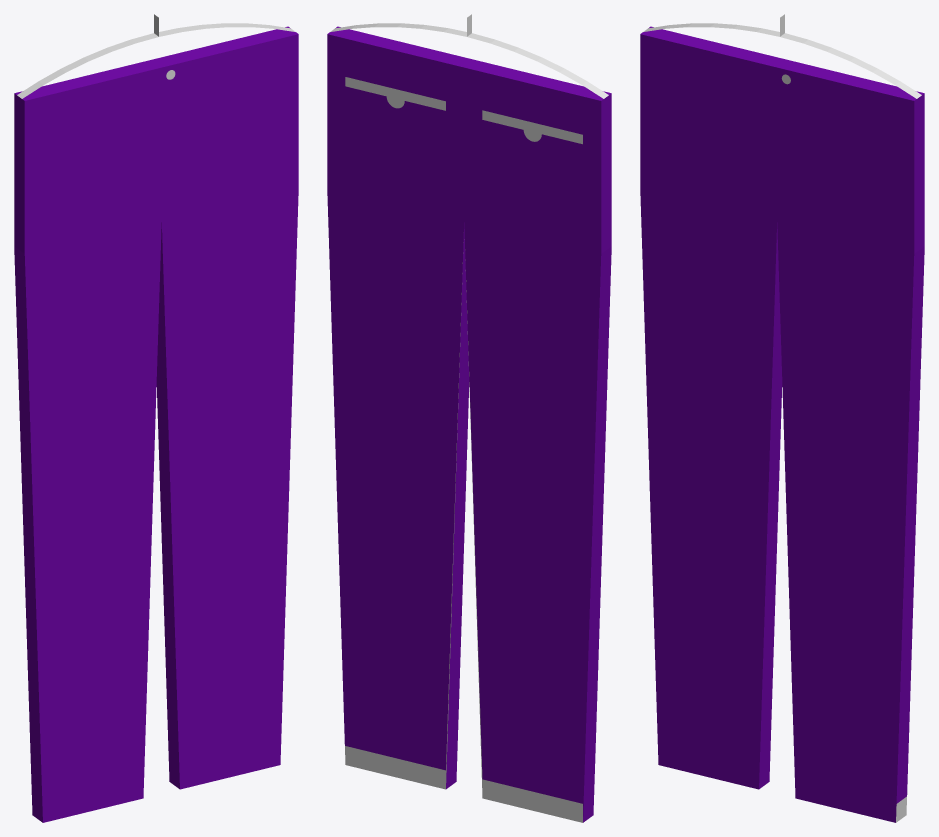
The model's file is pants-purple.dae.
3 renders of one model, left to right at view 1: azimuth 30°, elevation 25°; view 2: azimuth 150°, elevation 25°; view 3: azimuth 330°, elevation 25°, orthographic.
Visible parts, largest first — view 1: group_0_002, group_0_016, group_0_005, group_0_001; view 2: group_0_006, group_0_005, group_0_002, group_0_016, group_0_019, group_0_015, group_0_001; view 3: group_0_002, group_0_016, group_0_005, group_0_006, group_0_013, group_0_001.
Part boxes in pixels (box(x1,y1,x2,y2)): group_0_002: box(14, 87, 161, 822); group_0_016: box(156, 53, 298, 789); group_0_005: box(14, 26, 298, 219); group_0_001: box(17, 23, 295, 98); group_0_006: box(327, 53, 601, 816); group_0_005: box(327, 26, 611, 119); group_0_002: box(583, 113, 611, 822); group_0_016: box(446, 222, 469, 789); group_0_019: box(482, 779, 582, 822); group_0_015: box(345, 746, 445, 789); group_0_001: box(330, 23, 608, 98); group_0_002: box(640, 53, 777, 789); group_0_016: box(777, 91, 914, 822); group_0_005: box(640, 26, 924, 219); group_0_006: box(896, 113, 924, 803); group_0_013: box(759, 222, 782, 789); group_0_001: box(643, 23, 921, 98).
Bounding box in the file's own units: 0.381 × 0.0254 × 1.03.
